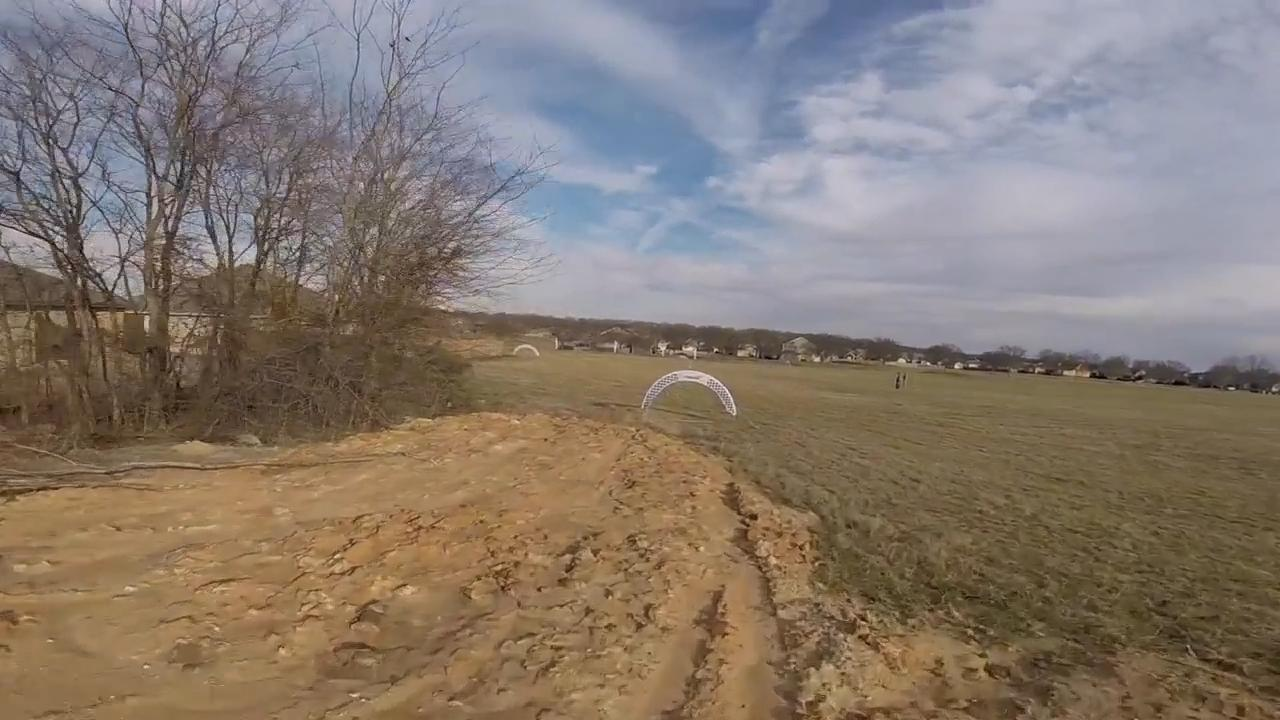gate: (638, 367, 739, 420)
